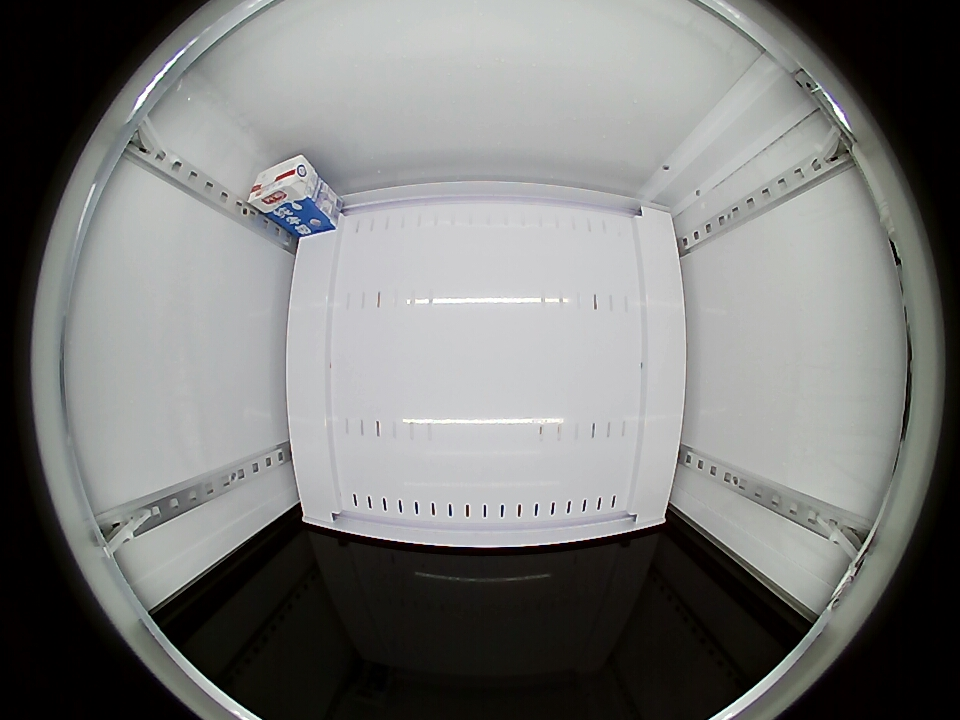niunai: (247, 154, 318, 215)
